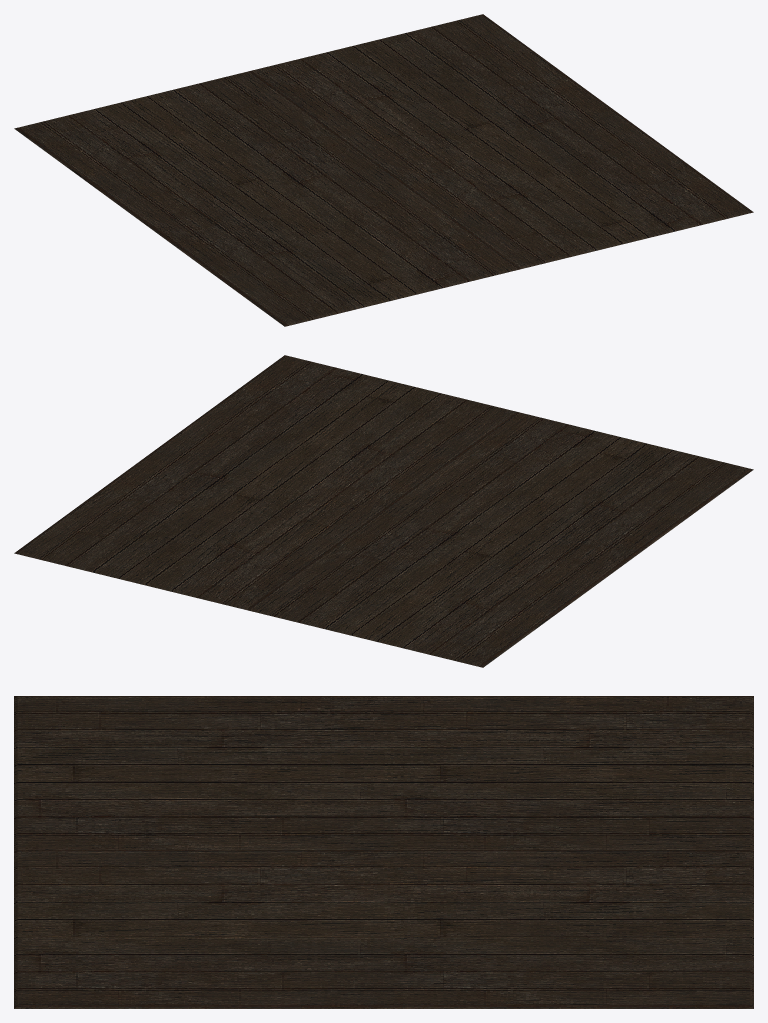
Rendered from floor_ceiling_1.glb.
3 renders of one model, top to bottom at view 1: azimuth 30°, elevation 25°; view 2: azimuth 150°, elevation 25°; view 3: azimuth 270°, elevation 25°, orthographic. The views are drawn at different scales.
Visible parts, largest first — view 1: floor_ceiling_1; view 2: floor_ceiling_1; view 3: floor_ceiling_1.
Boxes of the visible parts, x1,y1,x2,y2 form: floor_ceiling_1: [14, 14, 753, 326]; floor_ceiling_1: [14, 355, 753, 667]; floor_ceiling_1: [14, 696, 753, 1008].
Size of the model in its own units: 4.04 by 0.02 by 4.04.
2 materials, 2 textured.
